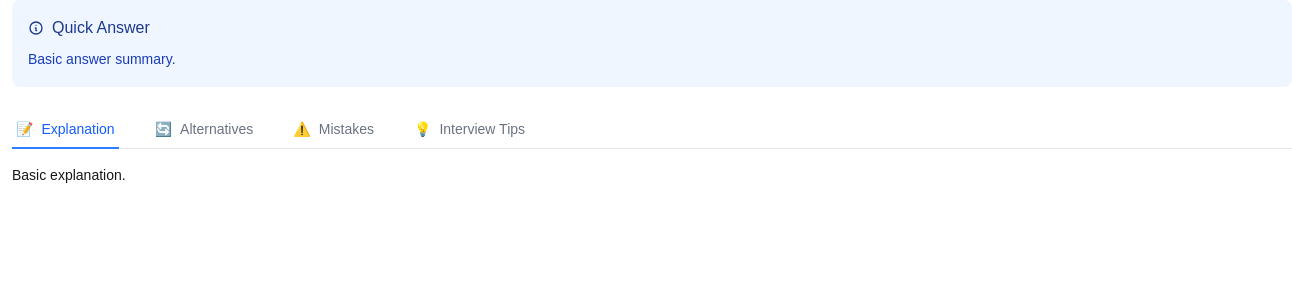
Test: DetailedAnswer › shows empty state for interview tips when none exist
Click the button "💡 Interview Tips" at {"x": 470, "y": 130}, box [410,111,529,149]
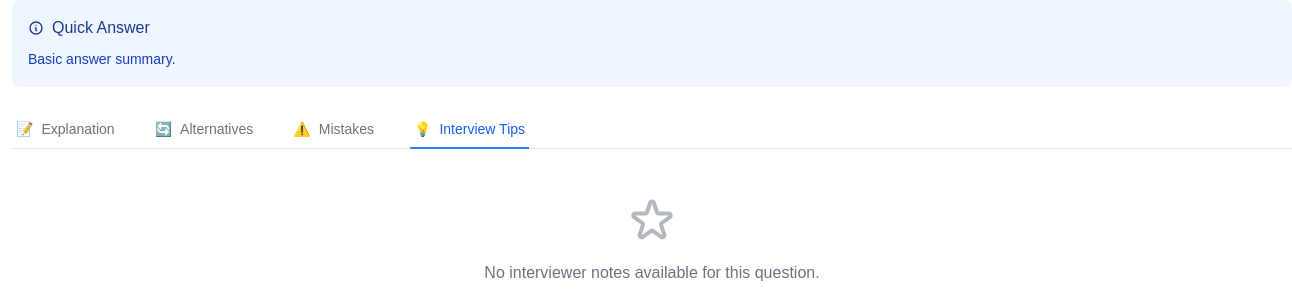
Expected: the text "No interviewer notes available for this question." is shown, [484,264,820,281]
